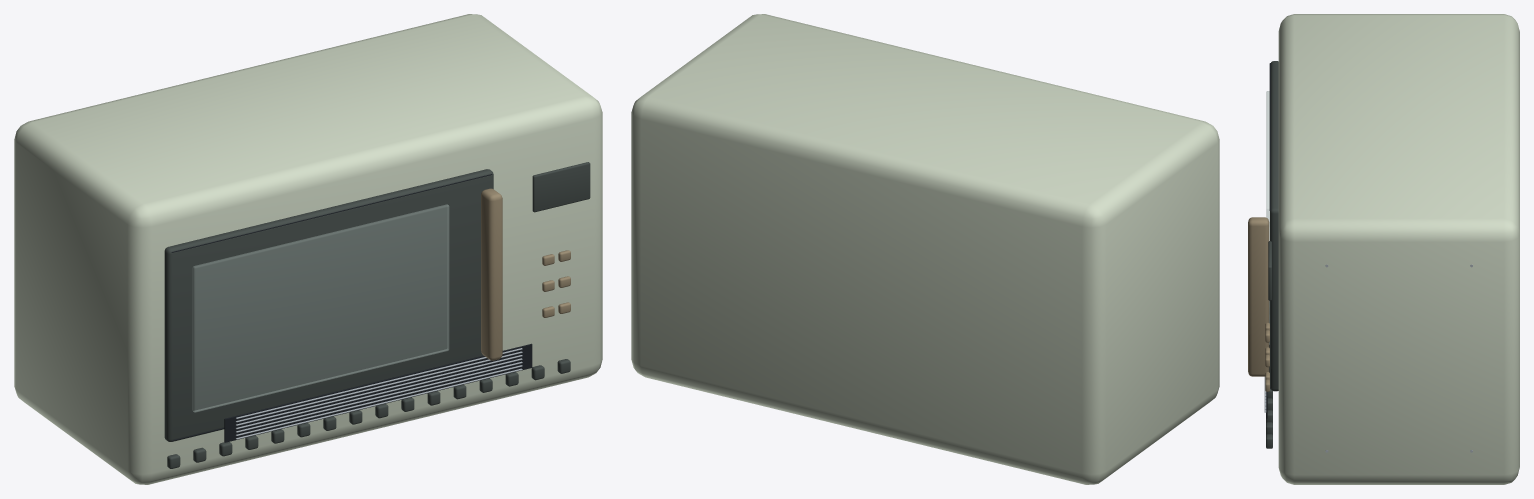
The model's file is microwave-hood.glb.
The picture shows the model from 3 angles, left to right: view 1: azimuth 30°, elevation 25°; view 2: azimuth 150°, elevation 25°; view 3: azimuth 270°, elevation 25°; orthographic projection. The views are drawn at different scales.
Visible parts, largest first — view 1: microwave-hood; view 2: microwave-hood; view 3: microwave-hood.
Part boxes in pixels (x1=…): microwave-hood: x1=14, y1=14, x2=602, y2=484; microwave-hood: x1=631, y1=14, x2=1219, y2=484; microwave-hood: x1=1248, y1=14, x2=1519, y2=484.
Bounding box in the file's own units: 0.76 × 0.43 × 0.4.
